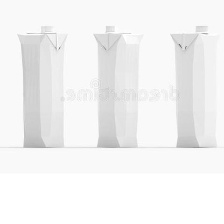carton: (91, 22, 145, 153), (16, 22, 71, 149), (169, 23, 222, 149)
